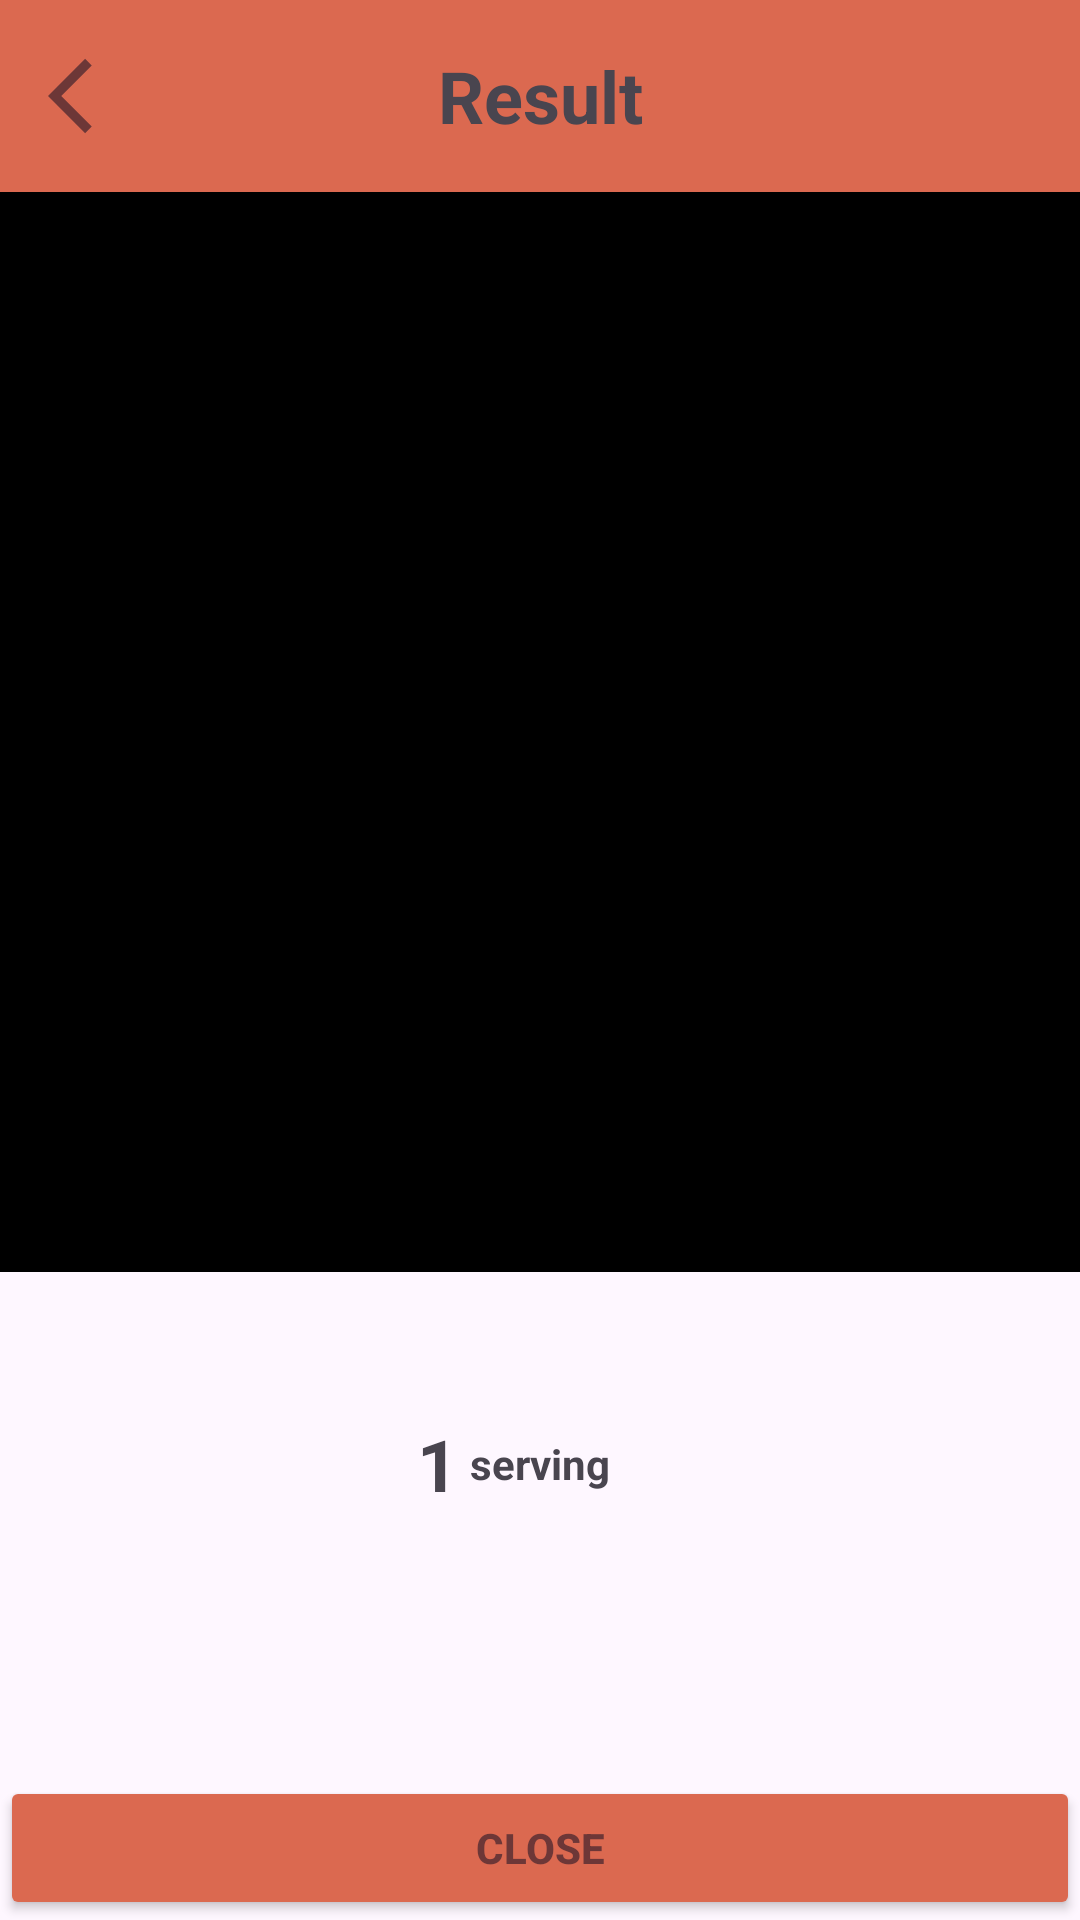

Icon click points for this 1080*1920 phone screenshot, format (x=x, y=y):
back: (x=70, y=96)
